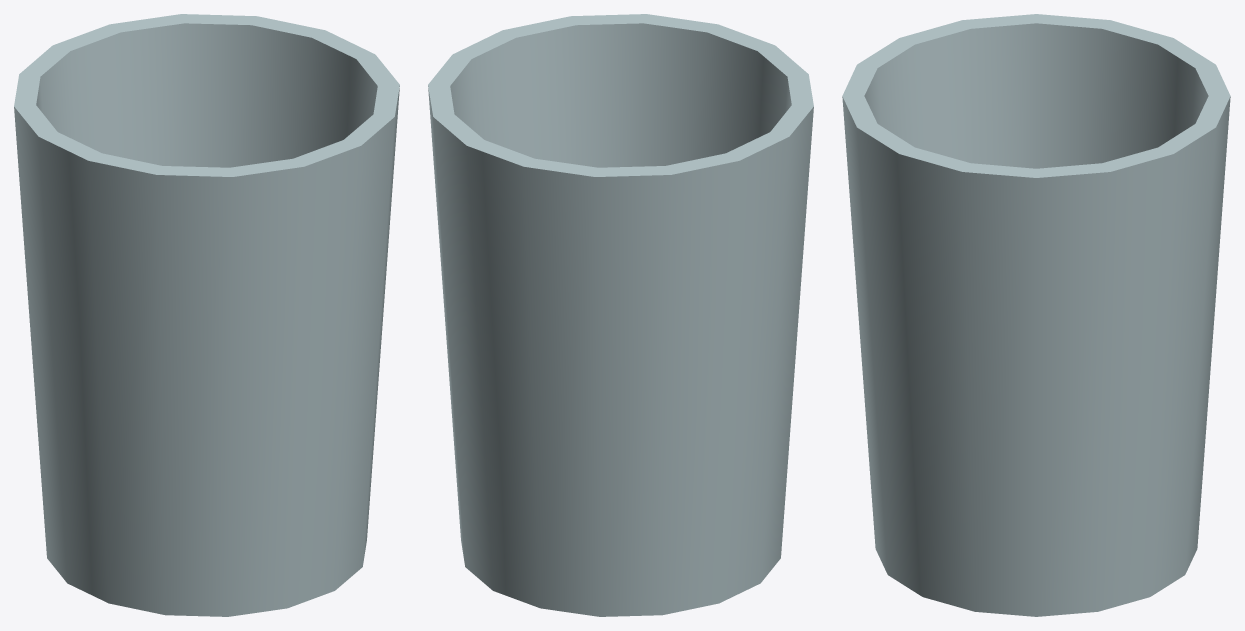
Rendered from cup_glass.glb.
The picture shows the model from 3 angles, left to right: view 1: azimuth 30°, elevation 25°; view 2: azimuth 150°, elevation 25°; view 3: azimuth 270°, elevation 25°; orthographic projection.
Parts seen in each view (by area): view 1: cup_glass; view 2: cup_glass; view 3: cup_glass.
Part boxes in pixels (x1=…): cup_glass: x1=14, y1=14, x2=399, y2=616; cup_glass: x1=428, y1=14, x2=813, y2=616; cup_glass: x1=842, y1=14, x2=1230, y2=616.
Size of the model in its own units: 0.0699 by 0.09 by 0.0699.
